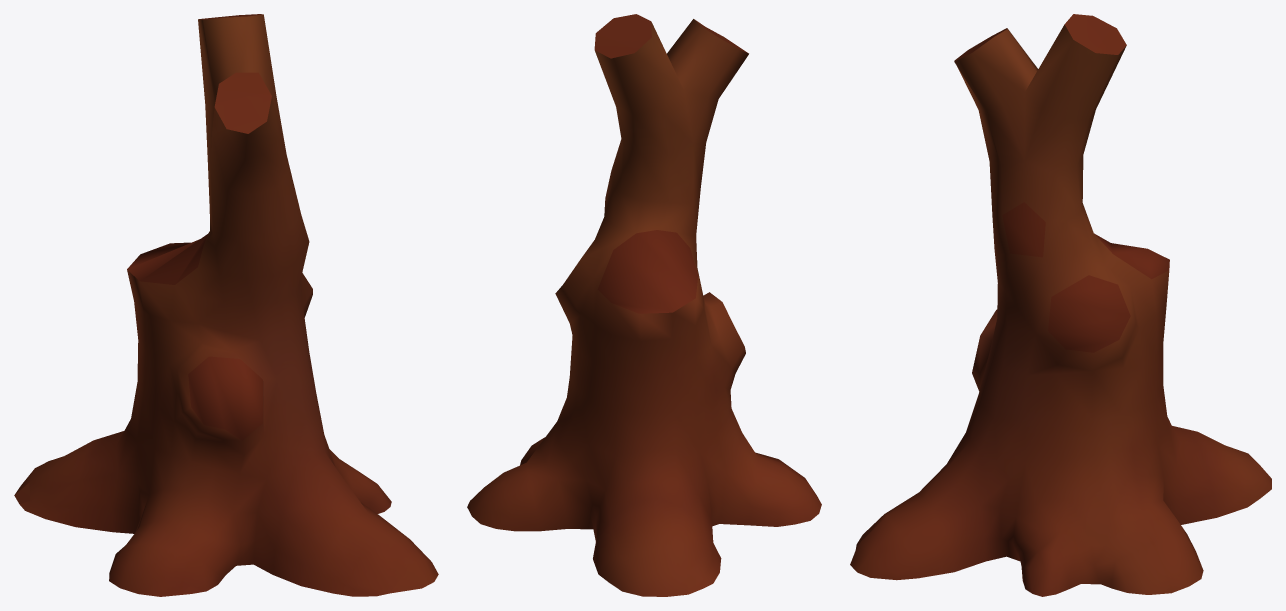
Rendered from TreeStylized.glb.
3 views of the same model, side by side, from view 1: azimuth 30°, elevation 25°; view 2: azimuth 150°, elevation 25°; view 3: azimuth 270°, elevation 25° (orthographic). The views are drawn at different scales.
Visible parts, largest first — view 1: geometry_0; view 2: geometry_0; view 3: geometry_0.
Boxes of the visible parts, bbox=[...] form: geometry_0: bbox=[14, 14, 438, 596]; geometry_0: bbox=[467, 14, 821, 596]; geometry_0: bbox=[850, 14, 1271, 596].
Size of the model in its own units: 0.2993 by 0.4971 by 0.3735.
1 material, 1 textured.
